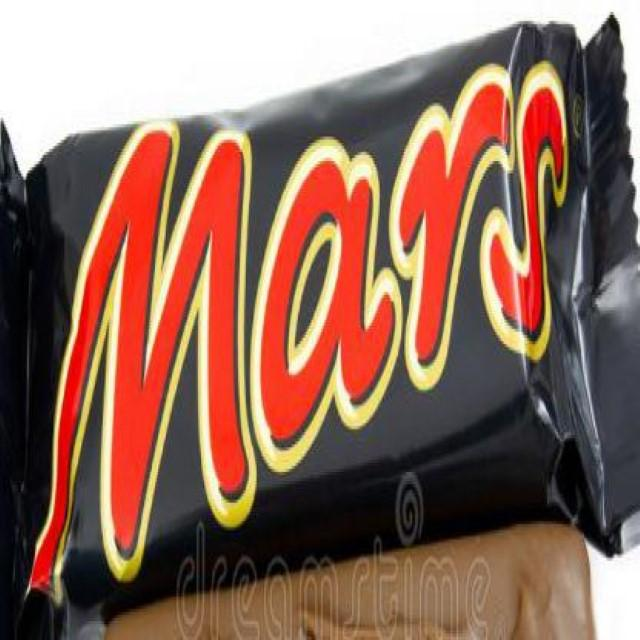mars_chocolate: (55, 41, 610, 572)
